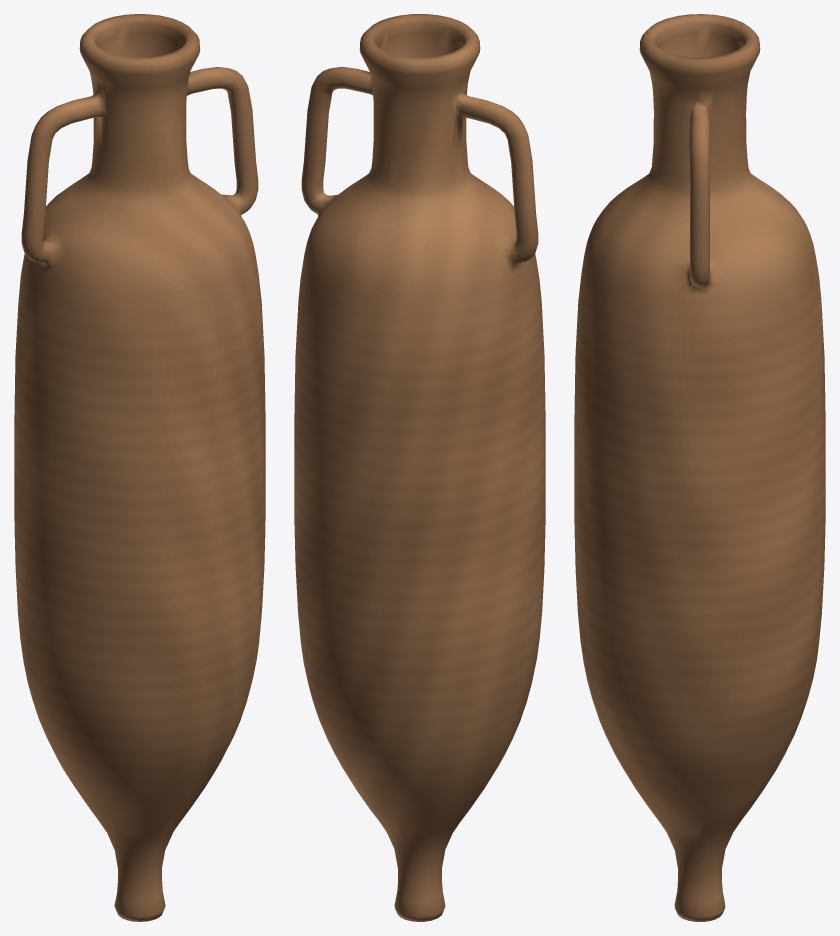
The model's file is NEW692_Amphora_LOD2.fbx.
3 renders of one model, left to right at view 1: azimuth 30°, elevation 25°; view 2: azimuth 150°, elevation 25°; view 3: azimuth 270°, elevation 25°, orthographic.
Visible parts, largest first — view 1: Complete_open_amphora_with_two_connected_handles; view 2: Complete_open_amphora_with_two_connected_handles; view 3: Complete_open_amphora_with_two_connected_handles.
Part boxes in pixels (x1,y1,x2,y2): Complete_open_amphora_with_two_connected_handles: [14, 14, 265, 921]; Complete_open_amphora_with_two_connected_handles: [294, 14, 545, 921]; Complete_open_amphora_with_two_connected_handles: [574, 14, 825, 921].
Bounding box in the file's own units: 0.3074 × 1.1 × 0.2861.
1 material, 1 textured.
